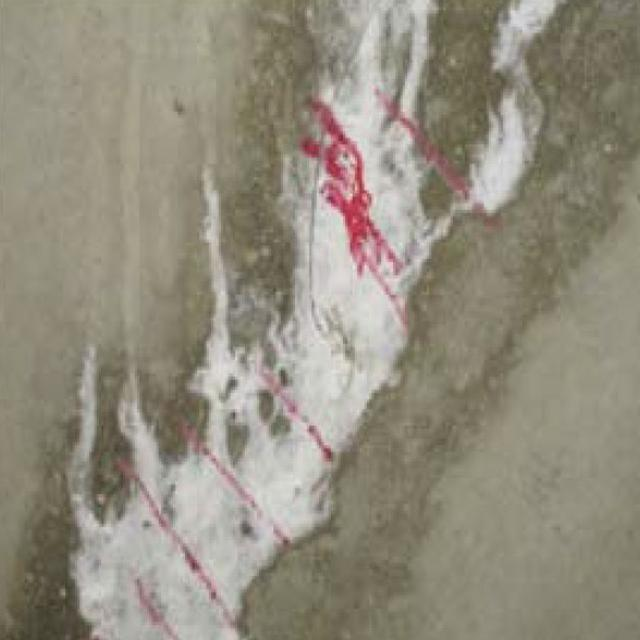freelime: (80, 4, 541, 640)
